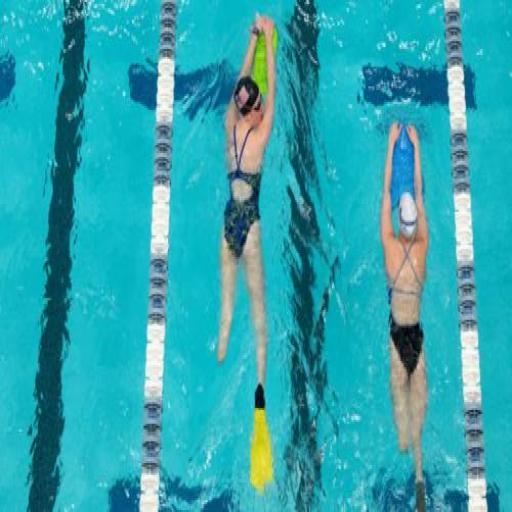swimming: (194, 29, 293, 496), (377, 118, 431, 510)
